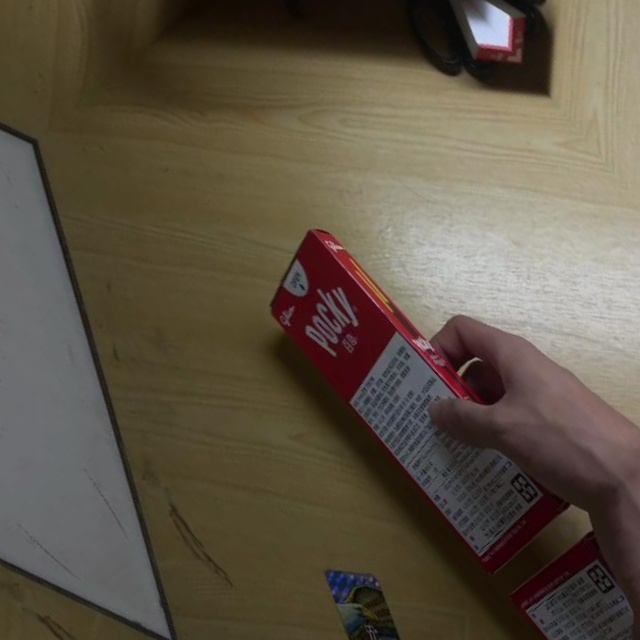Pocky: (243, 213, 575, 578)
